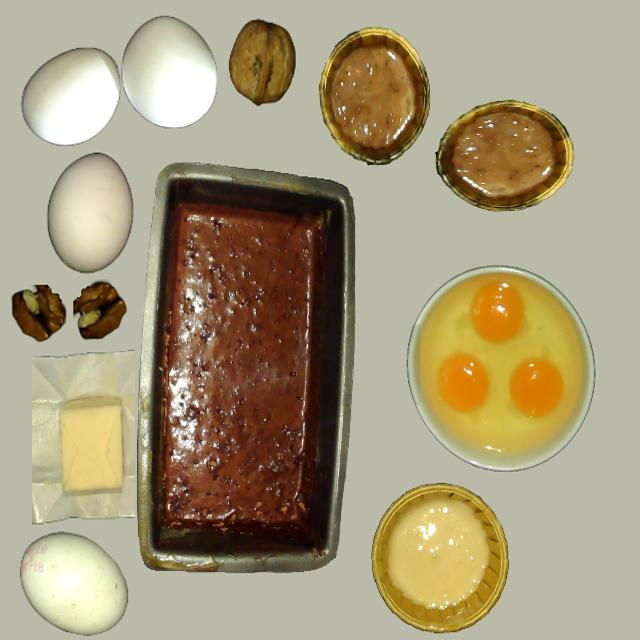Egg: (446, 255, 547, 347), (493, 344, 591, 431), (422, 342, 503, 431)
Walnut: (227, 7, 305, 112)
